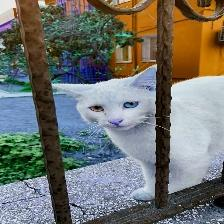kedo: (53, 63, 224, 201)
